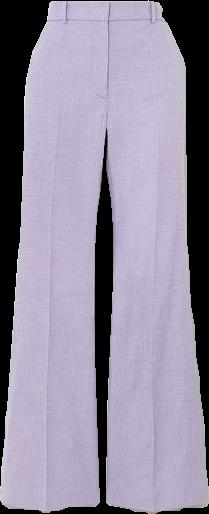Hemline: (105, 499, 208, 513), (0, 499, 100, 513)
Pantleg: (0, 0, 108, 511), (106, 0, 208, 511)
Waistline: (43, 13, 164, 23), (49, 0, 161, 6)
